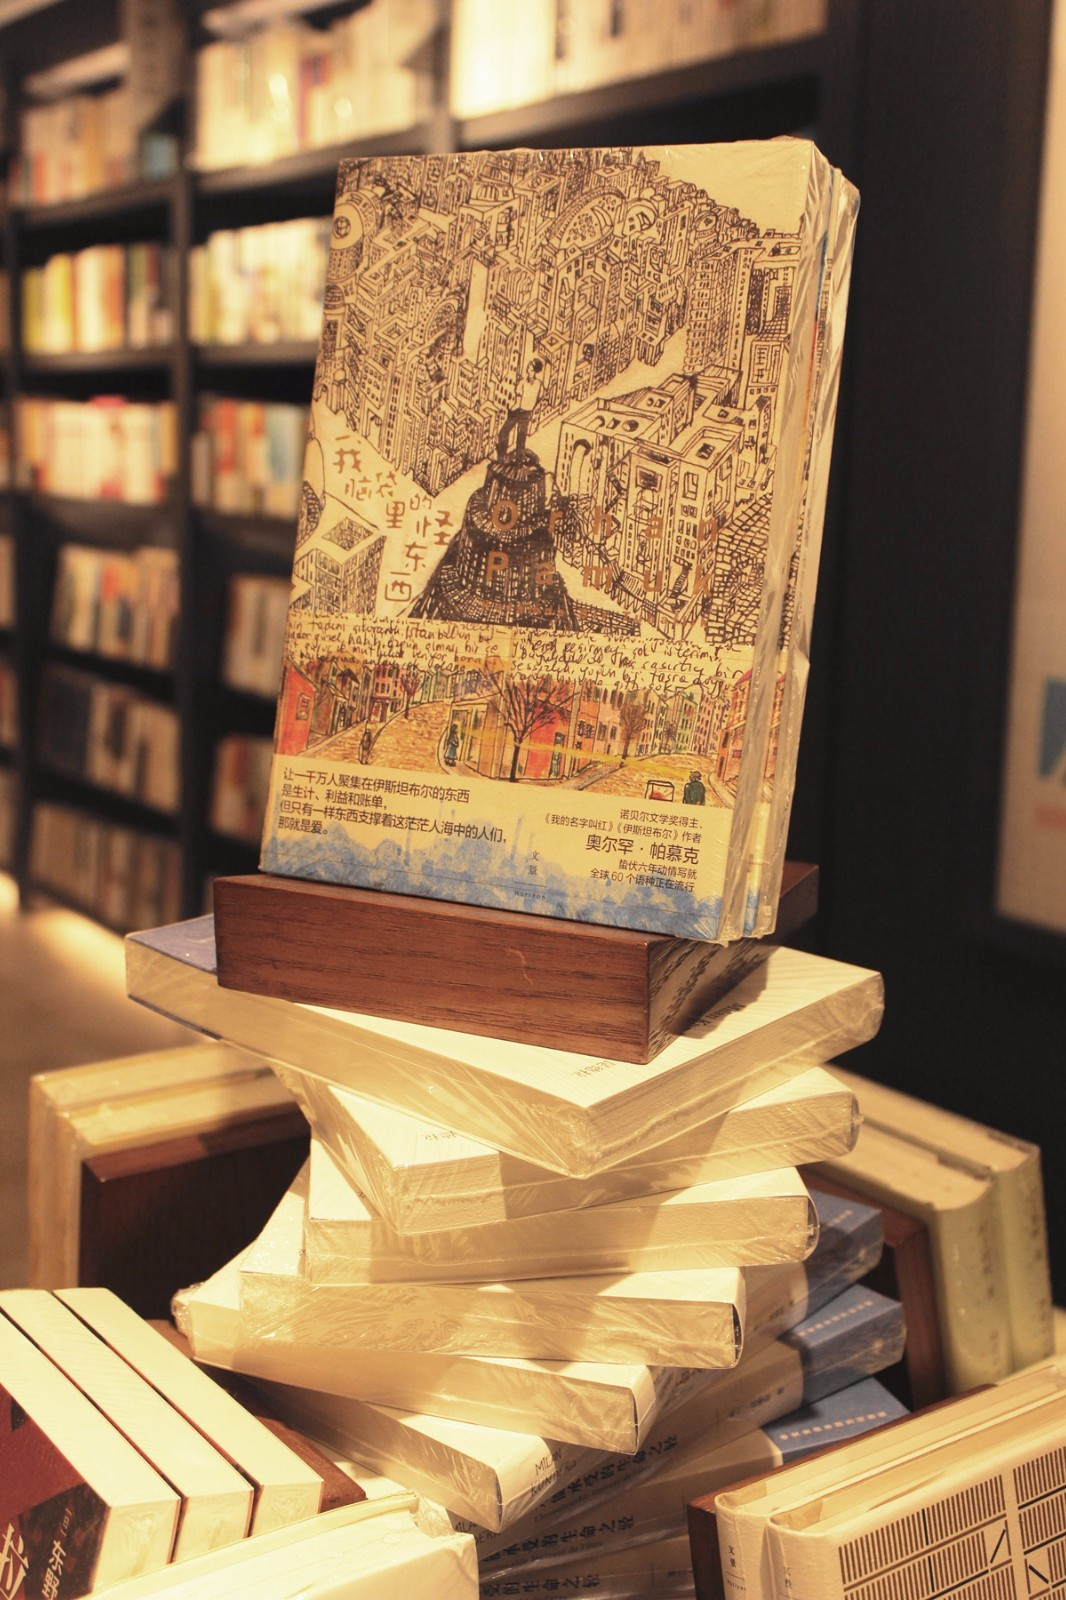book: (250, 138, 861, 947)
